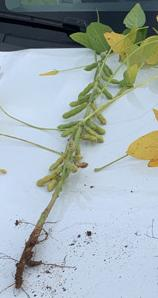soja: (33, 168, 70, 189), (62, 104, 91, 120), (57, 115, 83, 132), (92, 104, 112, 125), (84, 129, 106, 145), (71, 93, 94, 108), (97, 82, 115, 101), (87, 120, 107, 136), (77, 82, 94, 100), (50, 154, 67, 171), (102, 60, 119, 76), (61, 126, 82, 138), (46, 181, 62, 196), (101, 74, 120, 86), (67, 163, 83, 177), (82, 61, 100, 73), (76, 159, 91, 173), (79, 136, 98, 146), (74, 147, 89, 159), (103, 67, 115, 80), (100, 51, 109, 62)
